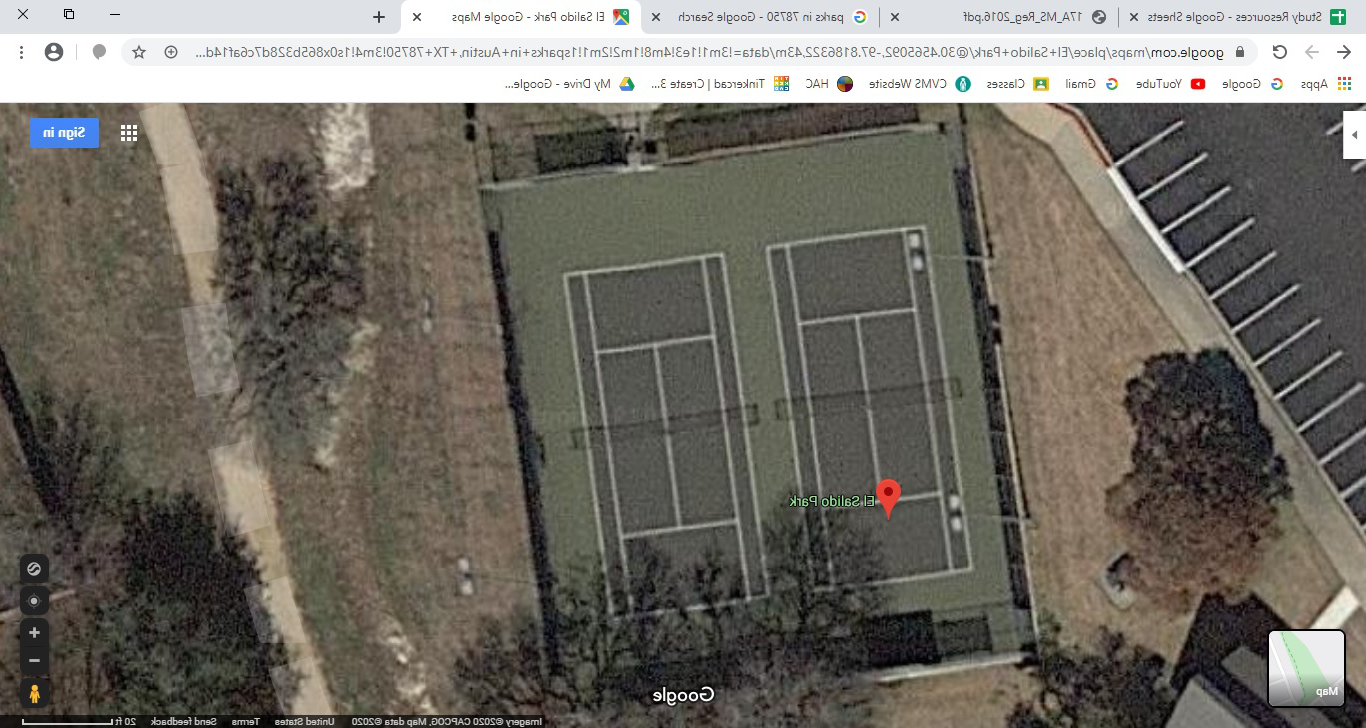tennis: (522, 242, 768, 628), (796, 218, 1024, 620)
